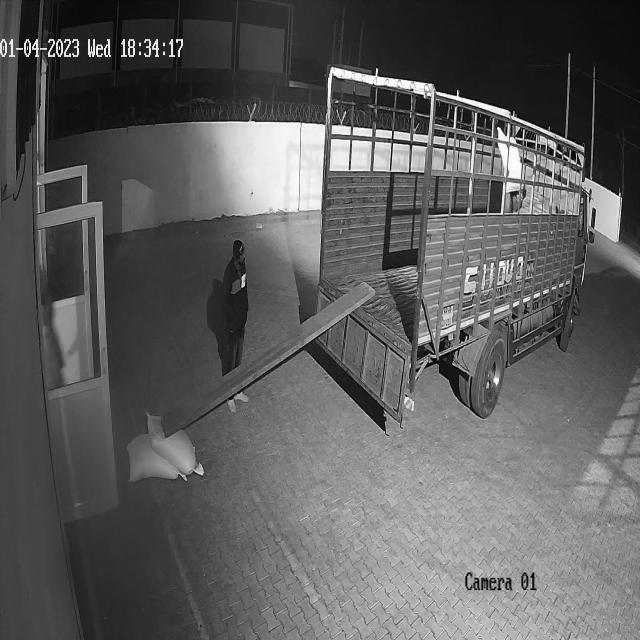sack: (146, 411, 204, 476), (126, 434, 187, 482), (496, 126, 525, 192)
